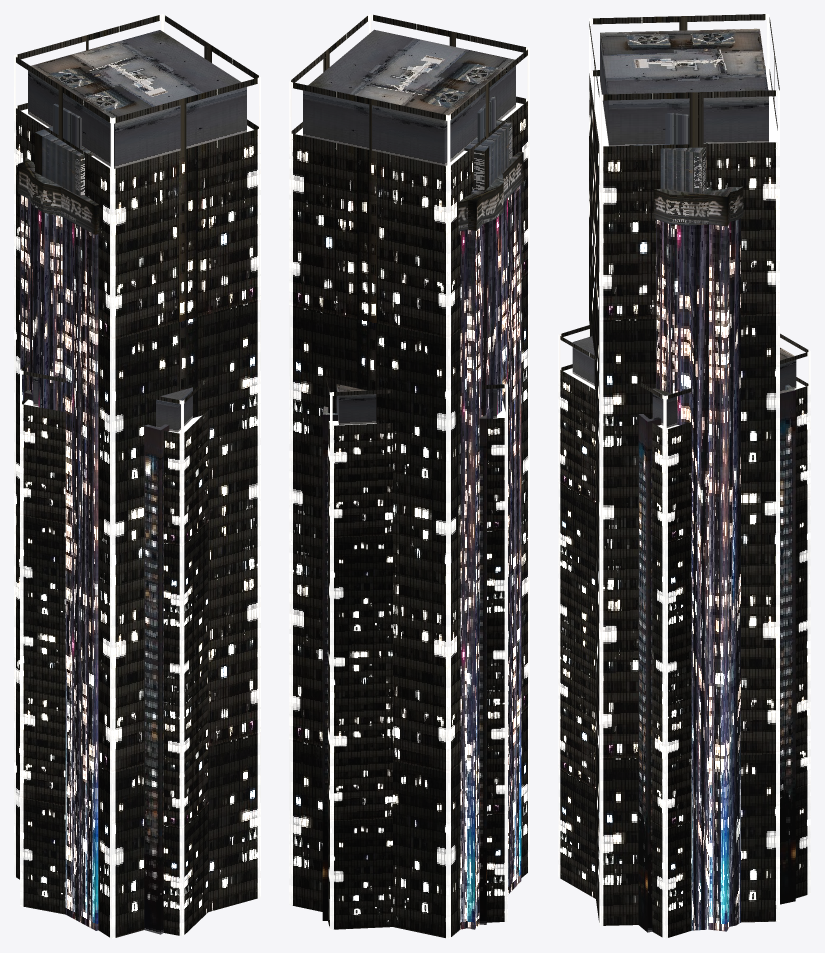
The model's file is city_at_night_low_poly_skyscrapers.glb.
3 views of the same model, side by side, from view 1: azimuth 30°, elevation 25°; view 2: azimuth 150°, elevation 25°; view 3: azimuth 270°, elevation 25° (orthographic).
Visible parts, largest first — view 1: ns_tower_21, ns_tower_3, ns_tower_12, ns_tower_24, ns_tower_6; view 2: ns_tower_21, ns_tower_3, ns_tower_12, ns_tower_6, ns_tower_24; view 3: ns_tower_21, ns_tower_3, ns_tower_12, ns_tower_6, ns_tower_24.
Part boxes in pixels (box(x1,y1,x2,y2)): ns_tower_21: box(14, 14, 260, 938); ns_tower_3: box(20, 361, 208, 936); ns_tower_12: box(18, 103, 99, 930); ns_tower_24: box(24, 390, 169, 934); ns_tower_6: box(24, 157, 63, 411); ns_tower_21: box(289, 14, 529, 938); ns_tower_3: box(325, 364, 507, 929); ns_tower_12: box(464, 96, 523, 929); ns_tower_6: box(458, 173, 503, 929); ns_tower_24: box(322, 406, 487, 924); ns_tower_21: box(589, 14, 779, 925); ns_tower_3: box(558, 324, 810, 938); ns_tower_12: box(653, 186, 743, 930); ns_tower_6: box(629, 113, 732, 931); ns_tower_24: box(638, 384, 795, 932).
Bounding box in the file's own units: 29.08 × 106 × 29.08.
9 materials, 9 textured.
